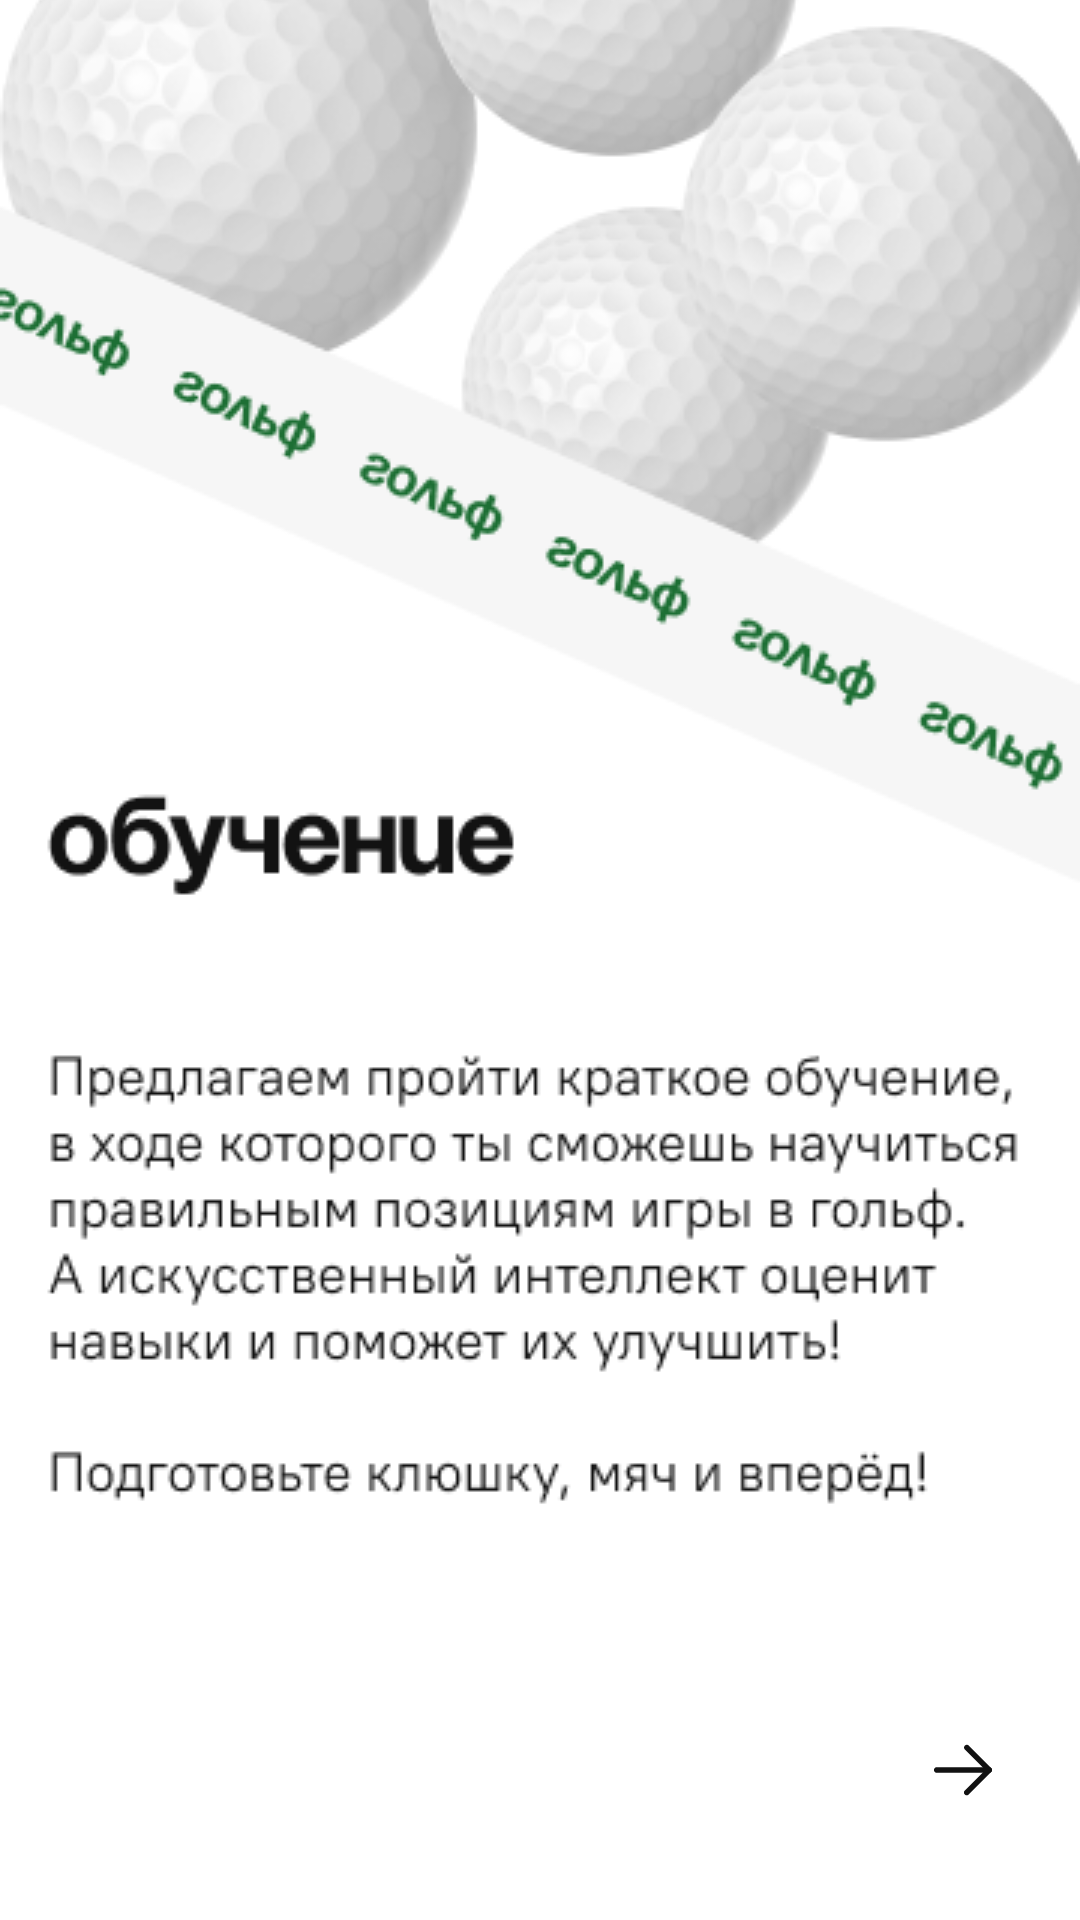

Icons on this 1080×1920 Android screen, each with its box as bbox=(x1, y1, x2, y2):
prime arrow: bbox=(934, 1744, 992, 1796)
